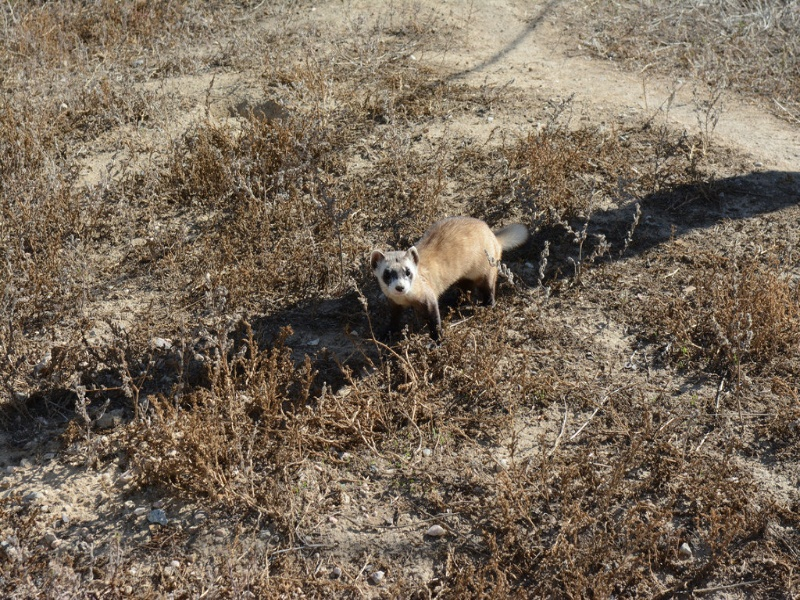minkish: (367, 209, 537, 348)
